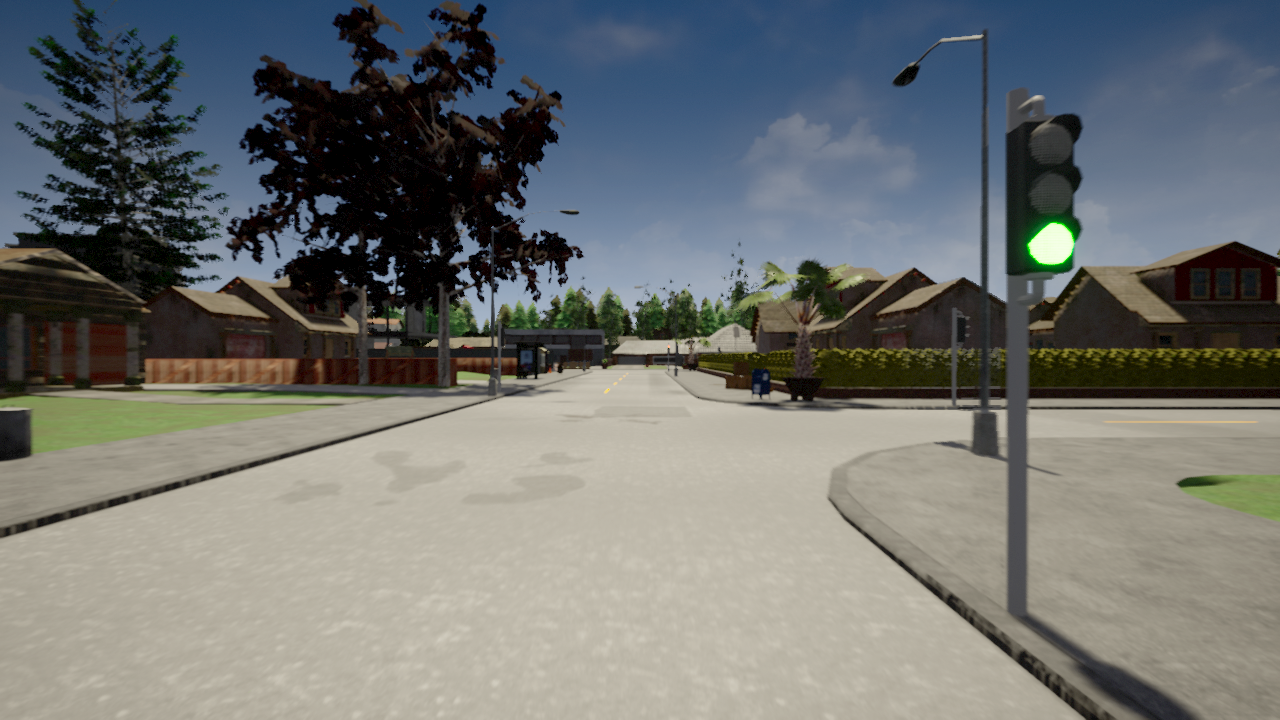green: (1006, 115, 1080, 273)
